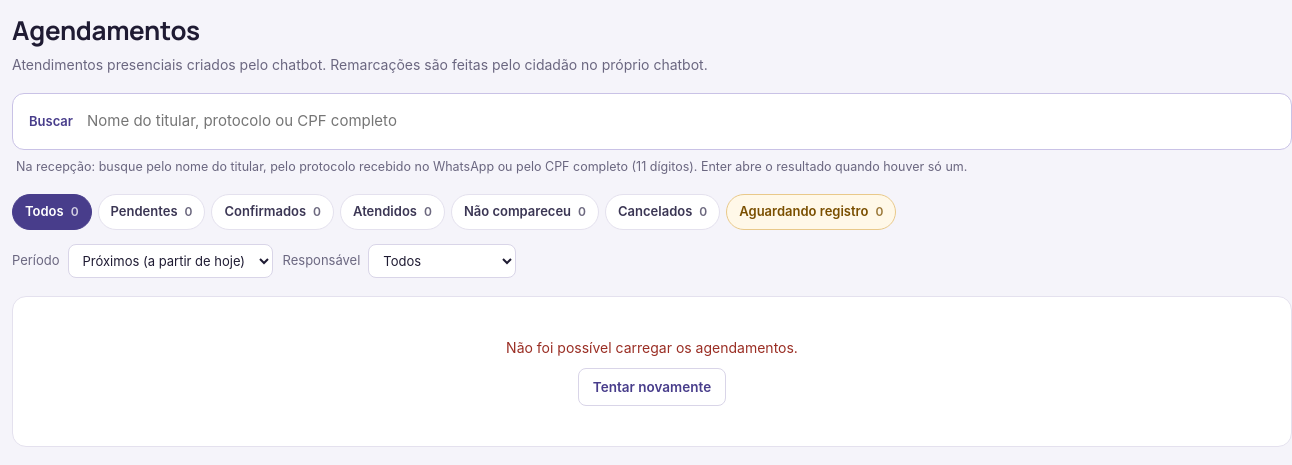
Test: Appointments.page: estados › mostra o erro e tenta de novo
Expected: the message reads "Não foi possível carregar os agendamentos.", top-left (506, 339), bottom-right (798, 356)
Click the button "Tentar novamente" at (652, 387), box top-left (578, 368), bottom-right (726, 406)
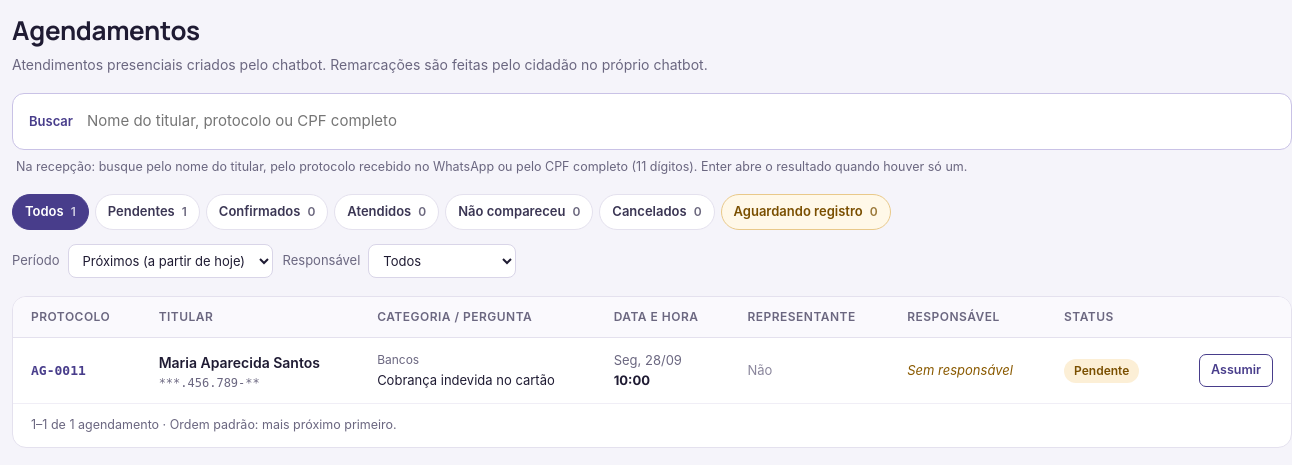
Result: the text "Maria Aparecida Santos" is shown at top-left (159, 352), bottom-right (341, 372)
Result: the message "Não foi possível carregar os agendamentos." is gone
